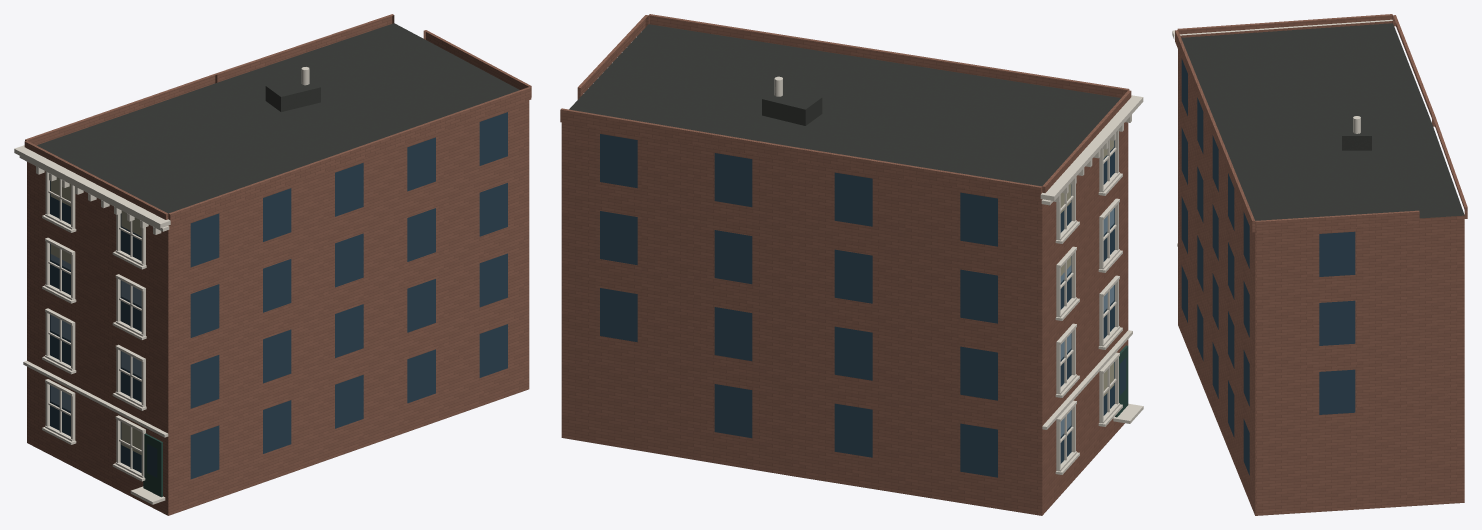
3 views of the same model, side by side, from view 1: azimuth 30°, elevation 25°; view 2: azimuth 150°, elevation 25°; view 3: azimuth 270°, elevation 25° (orthographic). The views are drawn at different scales.
Parts seen in each view (by area): view 1: Footprint 0 / surface 2, Footprint 0 / surface 1, Inset glazing, Cornices and window frames, Facade bay volumes, Sky reflection panels, Interior blind variation, Storefronts and doors, Inferred rooftop service enclosure / surface 5, Inferred rooftop service enclosure / surface 3; view 2: Footprint 0 / surface 2, Footprint 0 / surface 1, Inset glazing, Facade bay volumes, Cornices and window frames, Inferred rooftop service enclosure / surface 6, Sky reflection panels, Inferred rooftop service enclosure / surface 3; view 3: Footprint 0 / surface 2, Footprint 0 / surface 1, Inset glazing, Facade bay volumes, Inferred rooftop service enclosure / surface 1, Cornices and window frames, Inferred rooftop service enclosure / surface 3.
Boxes of the visible parts, bbox=[...] form: Footprint 0 / surface 2: bbox=[27, 100, 529, 515]; Footprint 0 / surface 1: bbox=[37, 23, 519, 213]; Inset glazing: bbox=[50, 112, 507, 479]; Cornices and window frames: bbox=[14, 145, 170, 504]; Facade bay volumes: bbox=[24, 14, 531, 225]; Sky reflection panels: bbox=[50, 254, 141, 411]; Interior blind variation: bbox=[50, 177, 141, 454]; Storefronts and doors: bbox=[143, 433, 162, 497]; Inferred rooftop service enclosure / surface 5: bbox=[281, 87, 320, 111]; Inferred rooftop service enclosure / surface 3: bbox=[266, 77, 320, 96]; Footprint 0 / surface 2: bbox=[561, 122, 1128, 515]; Footprint 0 / surface 1: bbox=[569, 24, 1120, 186]; Inset glazing: bbox=[600, 134, 1126, 477]; Facade bay volumes: bbox=[560, 14, 1131, 200]; Cornices and window frames: bbox=[1040, 95, 1143, 474]; Inferred rooftop service enclosure / surface 6: bbox=[762, 99, 805, 125]; Sky reflection panels: bbox=[1060, 208, 1114, 436]; Inferred rooftop service enclosure / surface 3: bbox=[762, 88, 821, 109]; Footprint 0 / surface 2: bbox=[1178, 49, 1464, 515]; Footprint 0 / surface 1: bbox=[1181, 23, 1464, 220]; Inset glazing: bbox=[1181, 58, 1355, 475]; Facade bay volumes: bbox=[1175, 14, 1467, 233]; Inferred rooftop service enclosure / surface 1: bbox=[1342, 136, 1371, 150]; Cornices and window frames: bbox=[1172, 19, 1392, 246]; Inferred rooftop service enclosure / surface 3: bbox=[1342, 117, 1371, 135].
Size of the model in its own units: 20.1 by 13.96 by 11.81.
